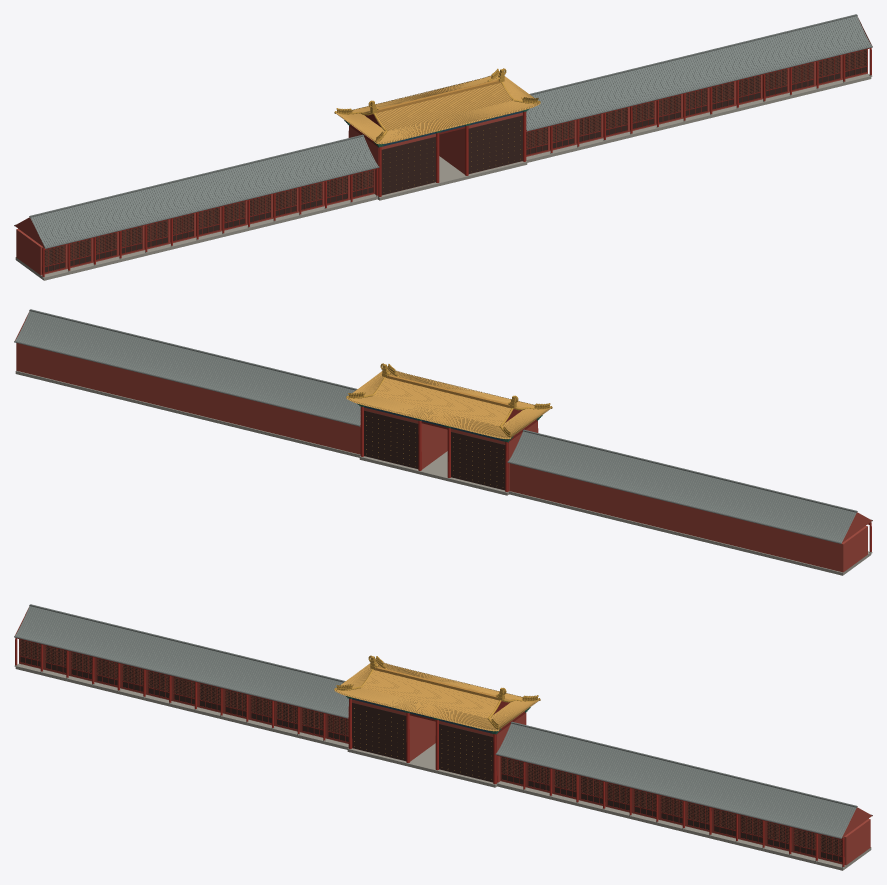
The model's file is axis-sw-detail.glb.
The picture shows the model from 3 angles, top to bottom: view 1: azimuth 30°, elevation 25°; view 2: azimuth 150°, elevation 25°; view 3: azimuth 330°, elevation 25°; orthographic projection.
Parts seen in each view (by area): view 1: axis-sw grayRoof.001, axis-sw wood.001, axis-sw grayTile.001, axis-sw lattice, axis-sw tile.001, axis-sw stone.001, axis-sw redDark.001, axis-sw wall.001, axis-sw red.001, axis-sw grayRidge.001, axis-sw roof.001, axis-sw gold.001; view 2: axis-sw grayRoof.001, axis-sw wall.001, axis-sw grayTile.001, axis-sw tile.001, axis-sw wood.001, axis-sw stone.001, axis-sw grayRidge.001, axis-sw roof.001, axis-sw red.001, axis-sw gold.001; view 3: axis-sw grayRoof.001, axis-sw wood.001, axis-sw grayTile.001, axis-sw lattice, axis-sw tile.001, axis-sw stone.001, axis-sw redDark.001, axis-sw wall.001, axis-sw red.001, axis-sw grayRidge.001, axis-sw roof.001, axis-sw gold.001.
Boxes of the visible parts, box(x1,y1,x2,y2) form: axis-sw grayRoof.001: box(30, 16, 871, 247); axis-sw wood.001: box(44, 49, 866, 272); axis-sw grayTile.001: box(31, 16, 871, 247); axis-sw lattice: box(44, 50, 866, 266); axis-sw tile.001: box(334, 74, 540, 144); axis-sw stone.001: box(15, 73, 872, 280); axis-sw redDark.001: box(42, 49, 867, 273); axis-sw wall.001: box(14, 16, 871, 275); axis-sw red.001: box(42, 47, 871, 276); axis-sw grayRidge.001: box(14, 14, 872, 248); axis-sw roof.001: box(375, 80, 508, 139); axis-sw gold.001: box(334, 68, 540, 187); axis-sw grayRoof.001: box(15, 311, 856, 542); axis-sw wall.001: box(15, 311, 872, 572); axis-sw grayTile.001: box(15, 311, 855, 542); axis-sw tile.001: box(346, 369, 552, 439); axis-sw wood.001: box(364, 410, 505, 490); axis-sw stone.001: box(15, 370, 872, 575); axis-sw grayRidge.001: box(14, 309, 872, 543); axis-sw roof.001: box(375, 375, 511, 432); axis-sw red.001: box(360, 406, 871, 551); axis-sw gold.001: box(346, 363, 552, 484); axis-sw grayRoof.001: box(15, 606, 856, 837); axis-sw wood.001: box(20, 639, 842, 862); axis-sw grayTile.001: box(15, 606, 855, 837); axis-sw lattice: box(20, 640, 841, 855); axis-sw tile.001: box(334, 661, 540, 731); axis-sw stone.001: box(14, 663, 871, 870); axis-sw redDark.001: box(19, 639, 844, 863); axis-sw wall.001: box(15, 606, 872, 865); axis-sw red.001: box(15, 637, 844, 866); axis-sw grayRidge.001: box(14, 604, 872, 838); axis-sw roof.001: box(365, 667, 499, 726); axis-sw gold.001: box(334, 655, 540, 779).
Size of the model in its own units: 1.3 by 0.1297 by 0.116.
